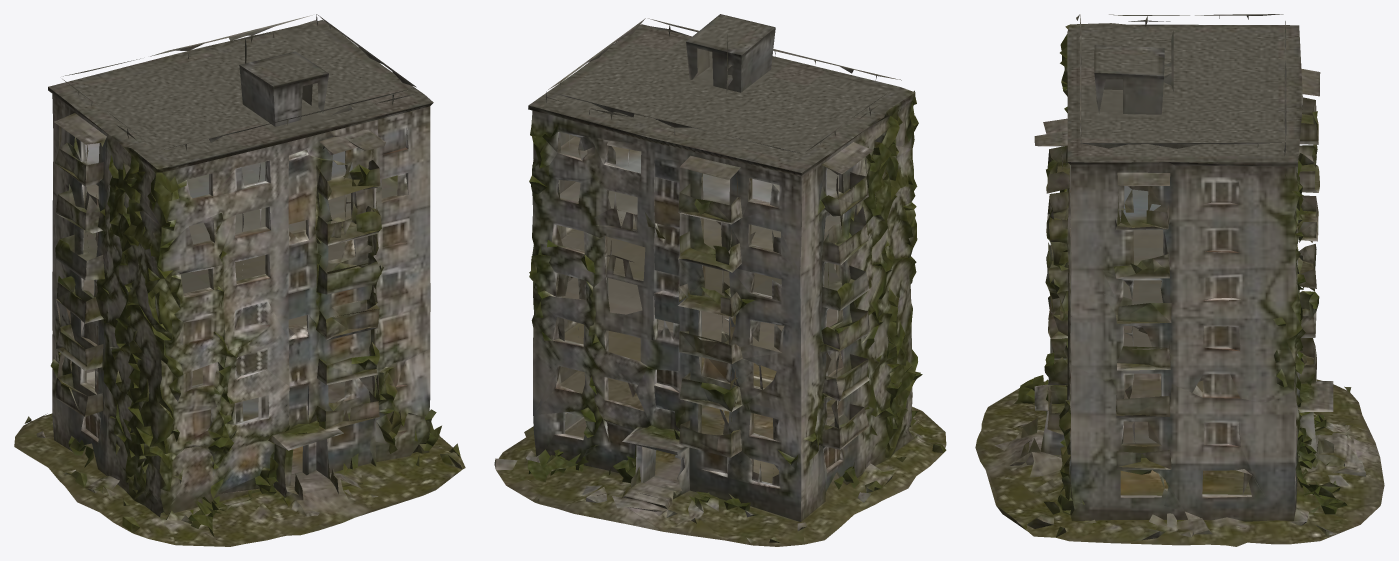
The model's file is ruin_overgrown.glb.
3 views of the same model, side by side, from view 1: azimuth 30°, elevation 25°; view 2: azimuth 150°, elevation 25°; view 3: azimuth 270°, elevation 25° (orthographic). The views are drawn at different scales.
Parts seen in each view (by area): view 1: ruin_overgrown; view 2: ruin_overgrown; view 3: ruin_overgrown.
Boxes of the visible parts, x1,y1,x2,y2 form: ruin_overgrown: (14, 14, 465, 546); ruin_overgrown: (494, 14, 946, 546); ruin_overgrown: (975, 14, 1384, 546).
Bounding box in the file's own units: 1.56 × 1.8 × 1.55.
1 material, 1 textured.
